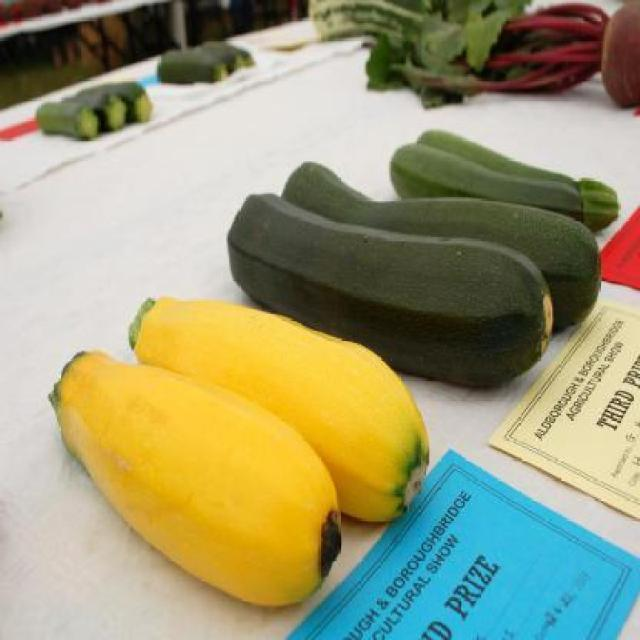Zucchini: (214, 137, 583, 396), (48, 336, 340, 598), (123, 290, 420, 521), (389, 143, 620, 226), (413, 122, 612, 205)
